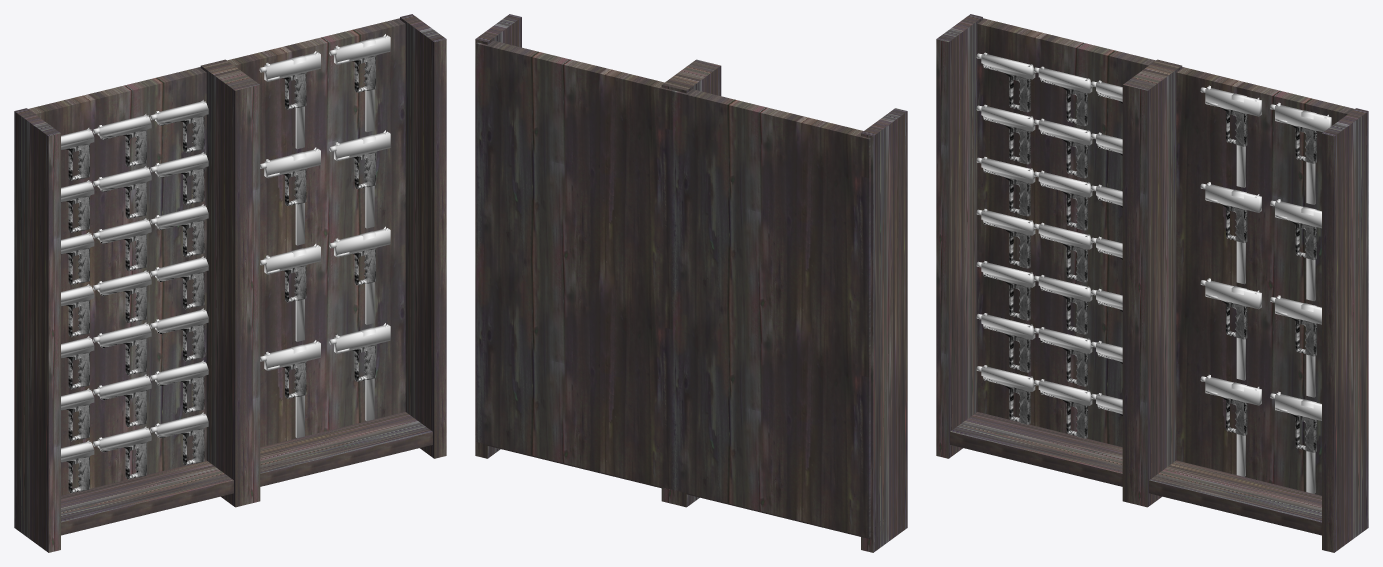
Rendered from weapon rack 02.fbx.
The picture shows the model from 3 angles, left to right: view 1: azimuth 30°, elevation 25°; view 2: azimuth 150°, elevation 25°; view 3: azimuth 330°, elevation 25°; orthographic projection.
Visible parts, largest first — view 1: weapon rack 02; view 2: weapon rack 02; view 3: weapon rack 02.
Part boxes in pixels (left/top/right/bottom): weapon rack 02: left=14, top=14, right=446, bottom=552; weapon rack 02: left=475, top=14, right=907, bottom=552; weapon rack 02: left=936, top=14, right=1368, bottom=552.
Bounding box in the file's own units: 1600 × 1600 × 250.
